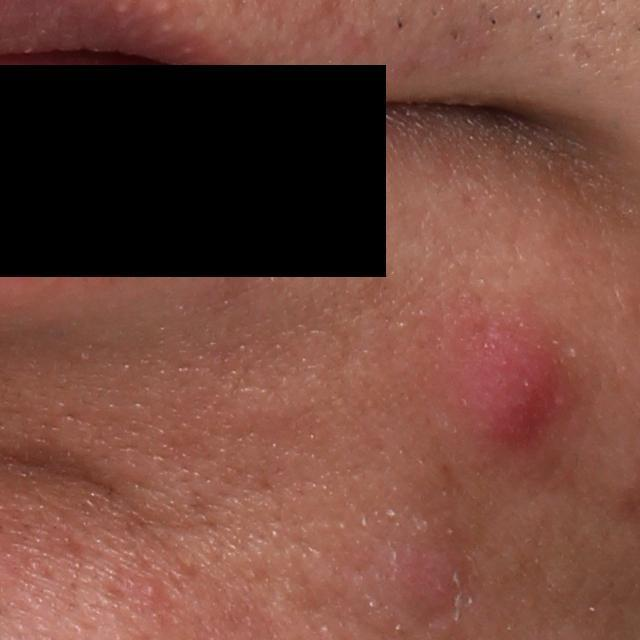papule: (440, 312, 588, 445), (367, 529, 472, 622)
